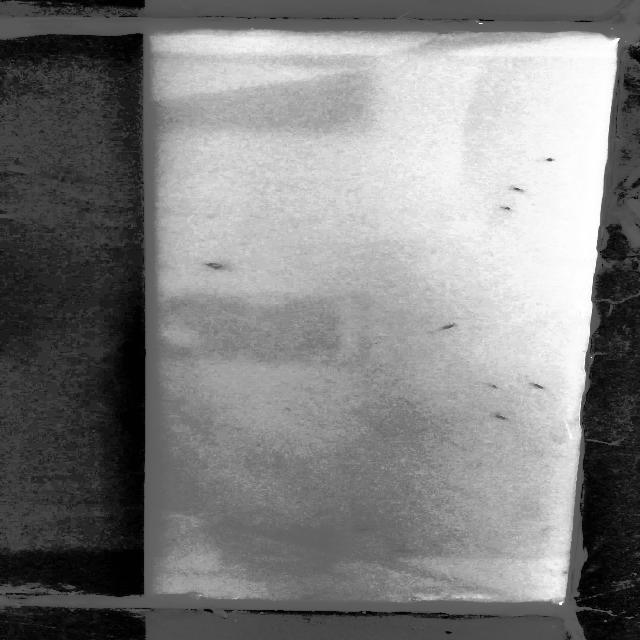shrimp: (350, 524, 389, 540), (426, 321, 464, 334), (488, 410, 518, 424), (388, 545, 415, 556), (504, 183, 530, 194), (204, 265, 239, 273), (539, 153, 566, 163), (480, 380, 504, 390), (495, 202, 521, 211), (528, 380, 549, 390), (299, 593, 319, 602), (200, 262, 227, 267)
